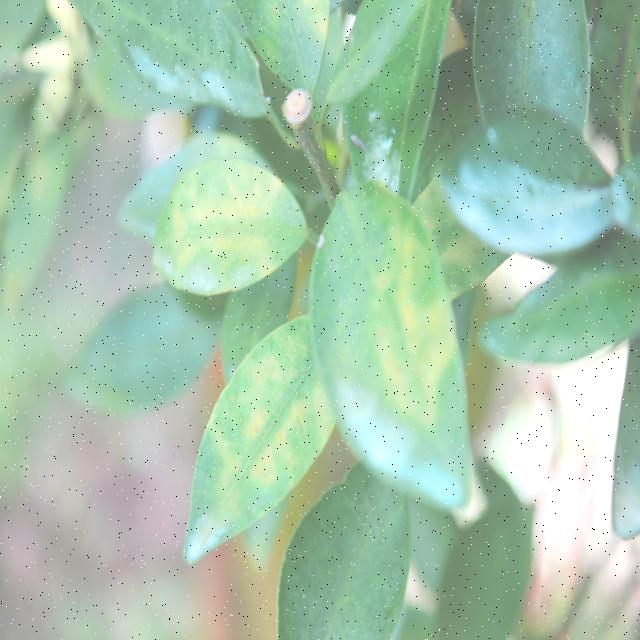blackspot: (158, 167, 305, 292), (481, 52, 548, 136), (256, 0, 326, 63)
